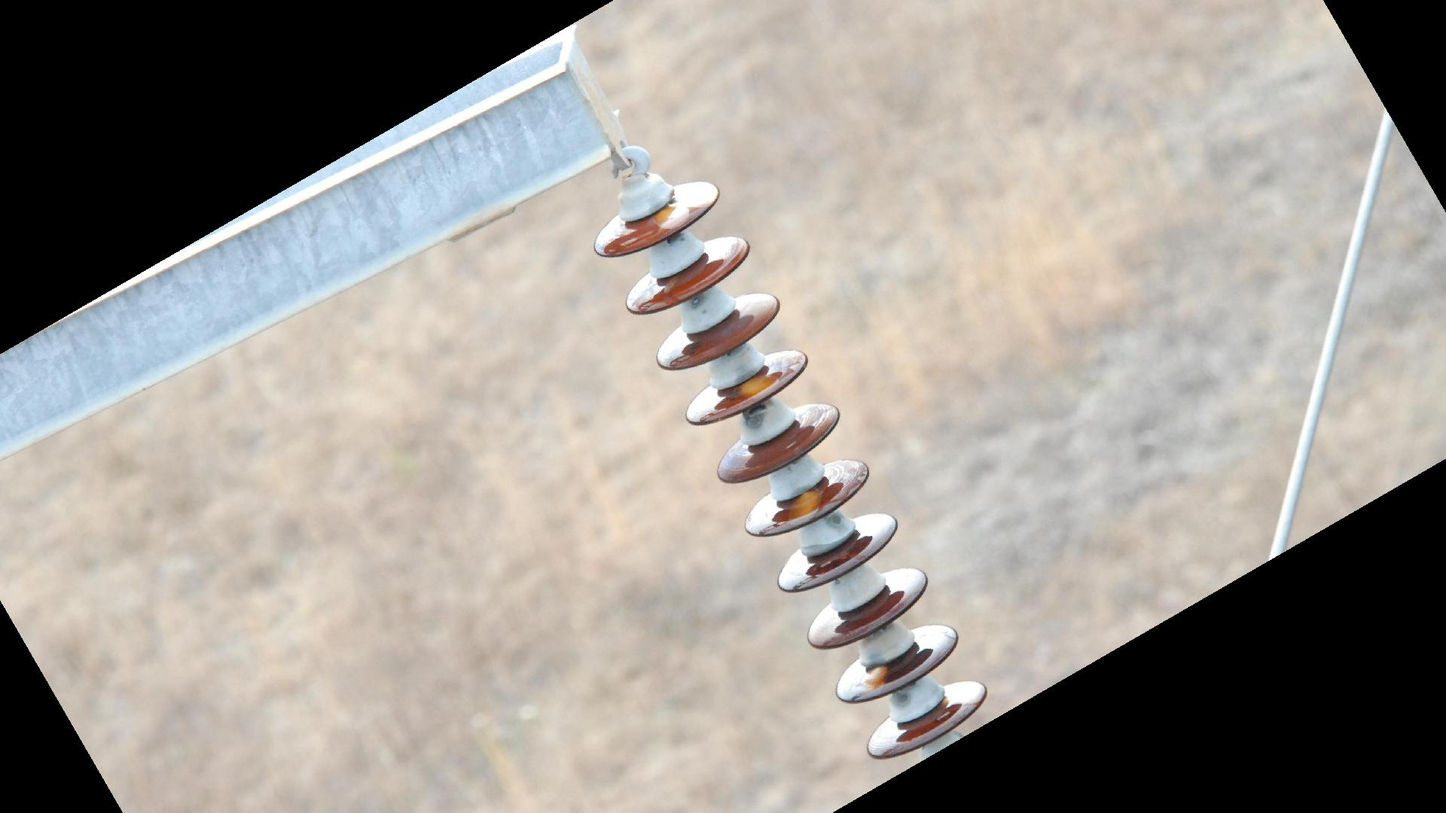insulator: (587, 175, 990, 765)
insulator_flashover: (784, 482, 825, 530), (647, 199, 691, 232), (736, 370, 782, 400), (856, 665, 892, 699)
